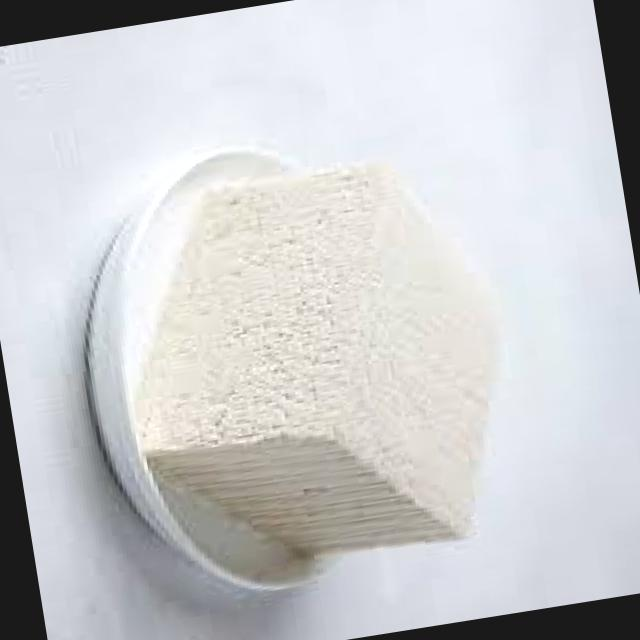tof: (93, 168, 553, 596)
